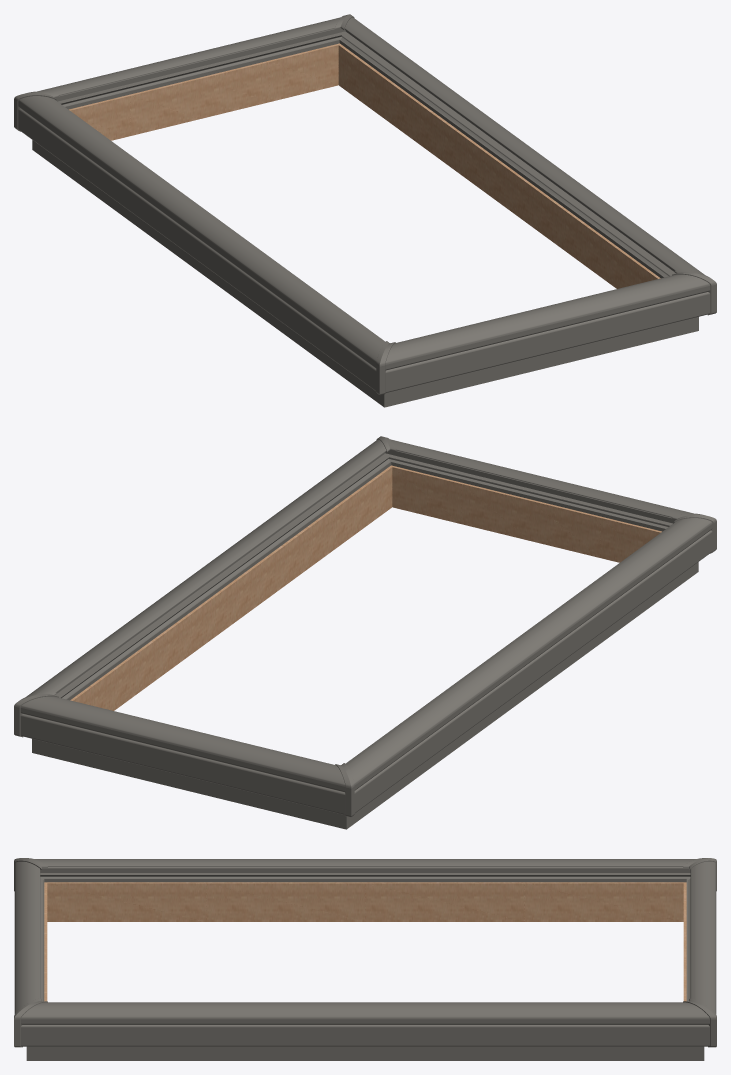
The model's file is skylight.glb.
3 views of the same model, one above another, from view 1: azimuth 30°, elevation 25°; view 2: azimuth 150°, elevation 25°; view 3: azimuth 270°, elevation 25° (orthographic). The views are drawn at different scales.
Visible parts, largest first — view 1: Mesh_0, Mesh_2; view 2: Mesh_0, Mesh_2; view 3: Mesh_0, Mesh_2.
Part boxes in pixels (box(x1,y1,x2,y2)): Mesh_0: box(14, 14, 716, 407); Mesh_2: box(69, 43, 660, 288); Mesh_0: box(14, 436, 716, 829); Mesh_2: box(70, 465, 661, 710); Mesh_0: box(14, 858, 716, 1060); Mesh_2: box(44, 882, 686, 1001).
Size of the model in its own units: 0.6951 by 0.1132 by 1.3.
3 materials, 1 textured.
